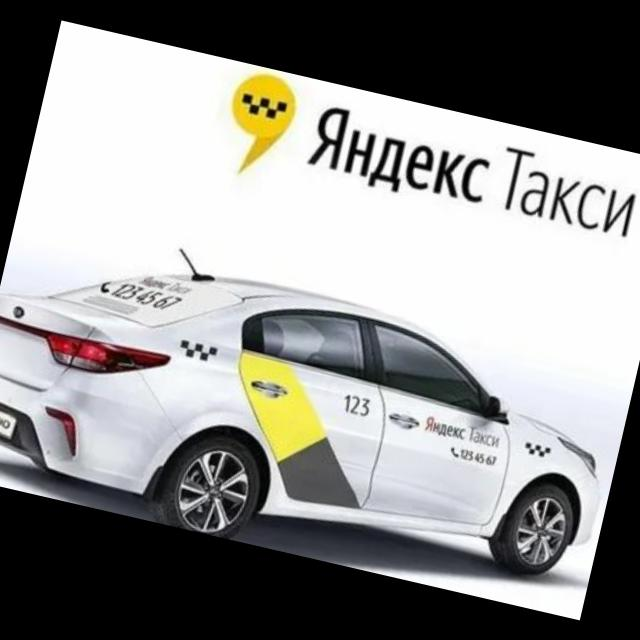taxi: (1, 210, 635, 619)
